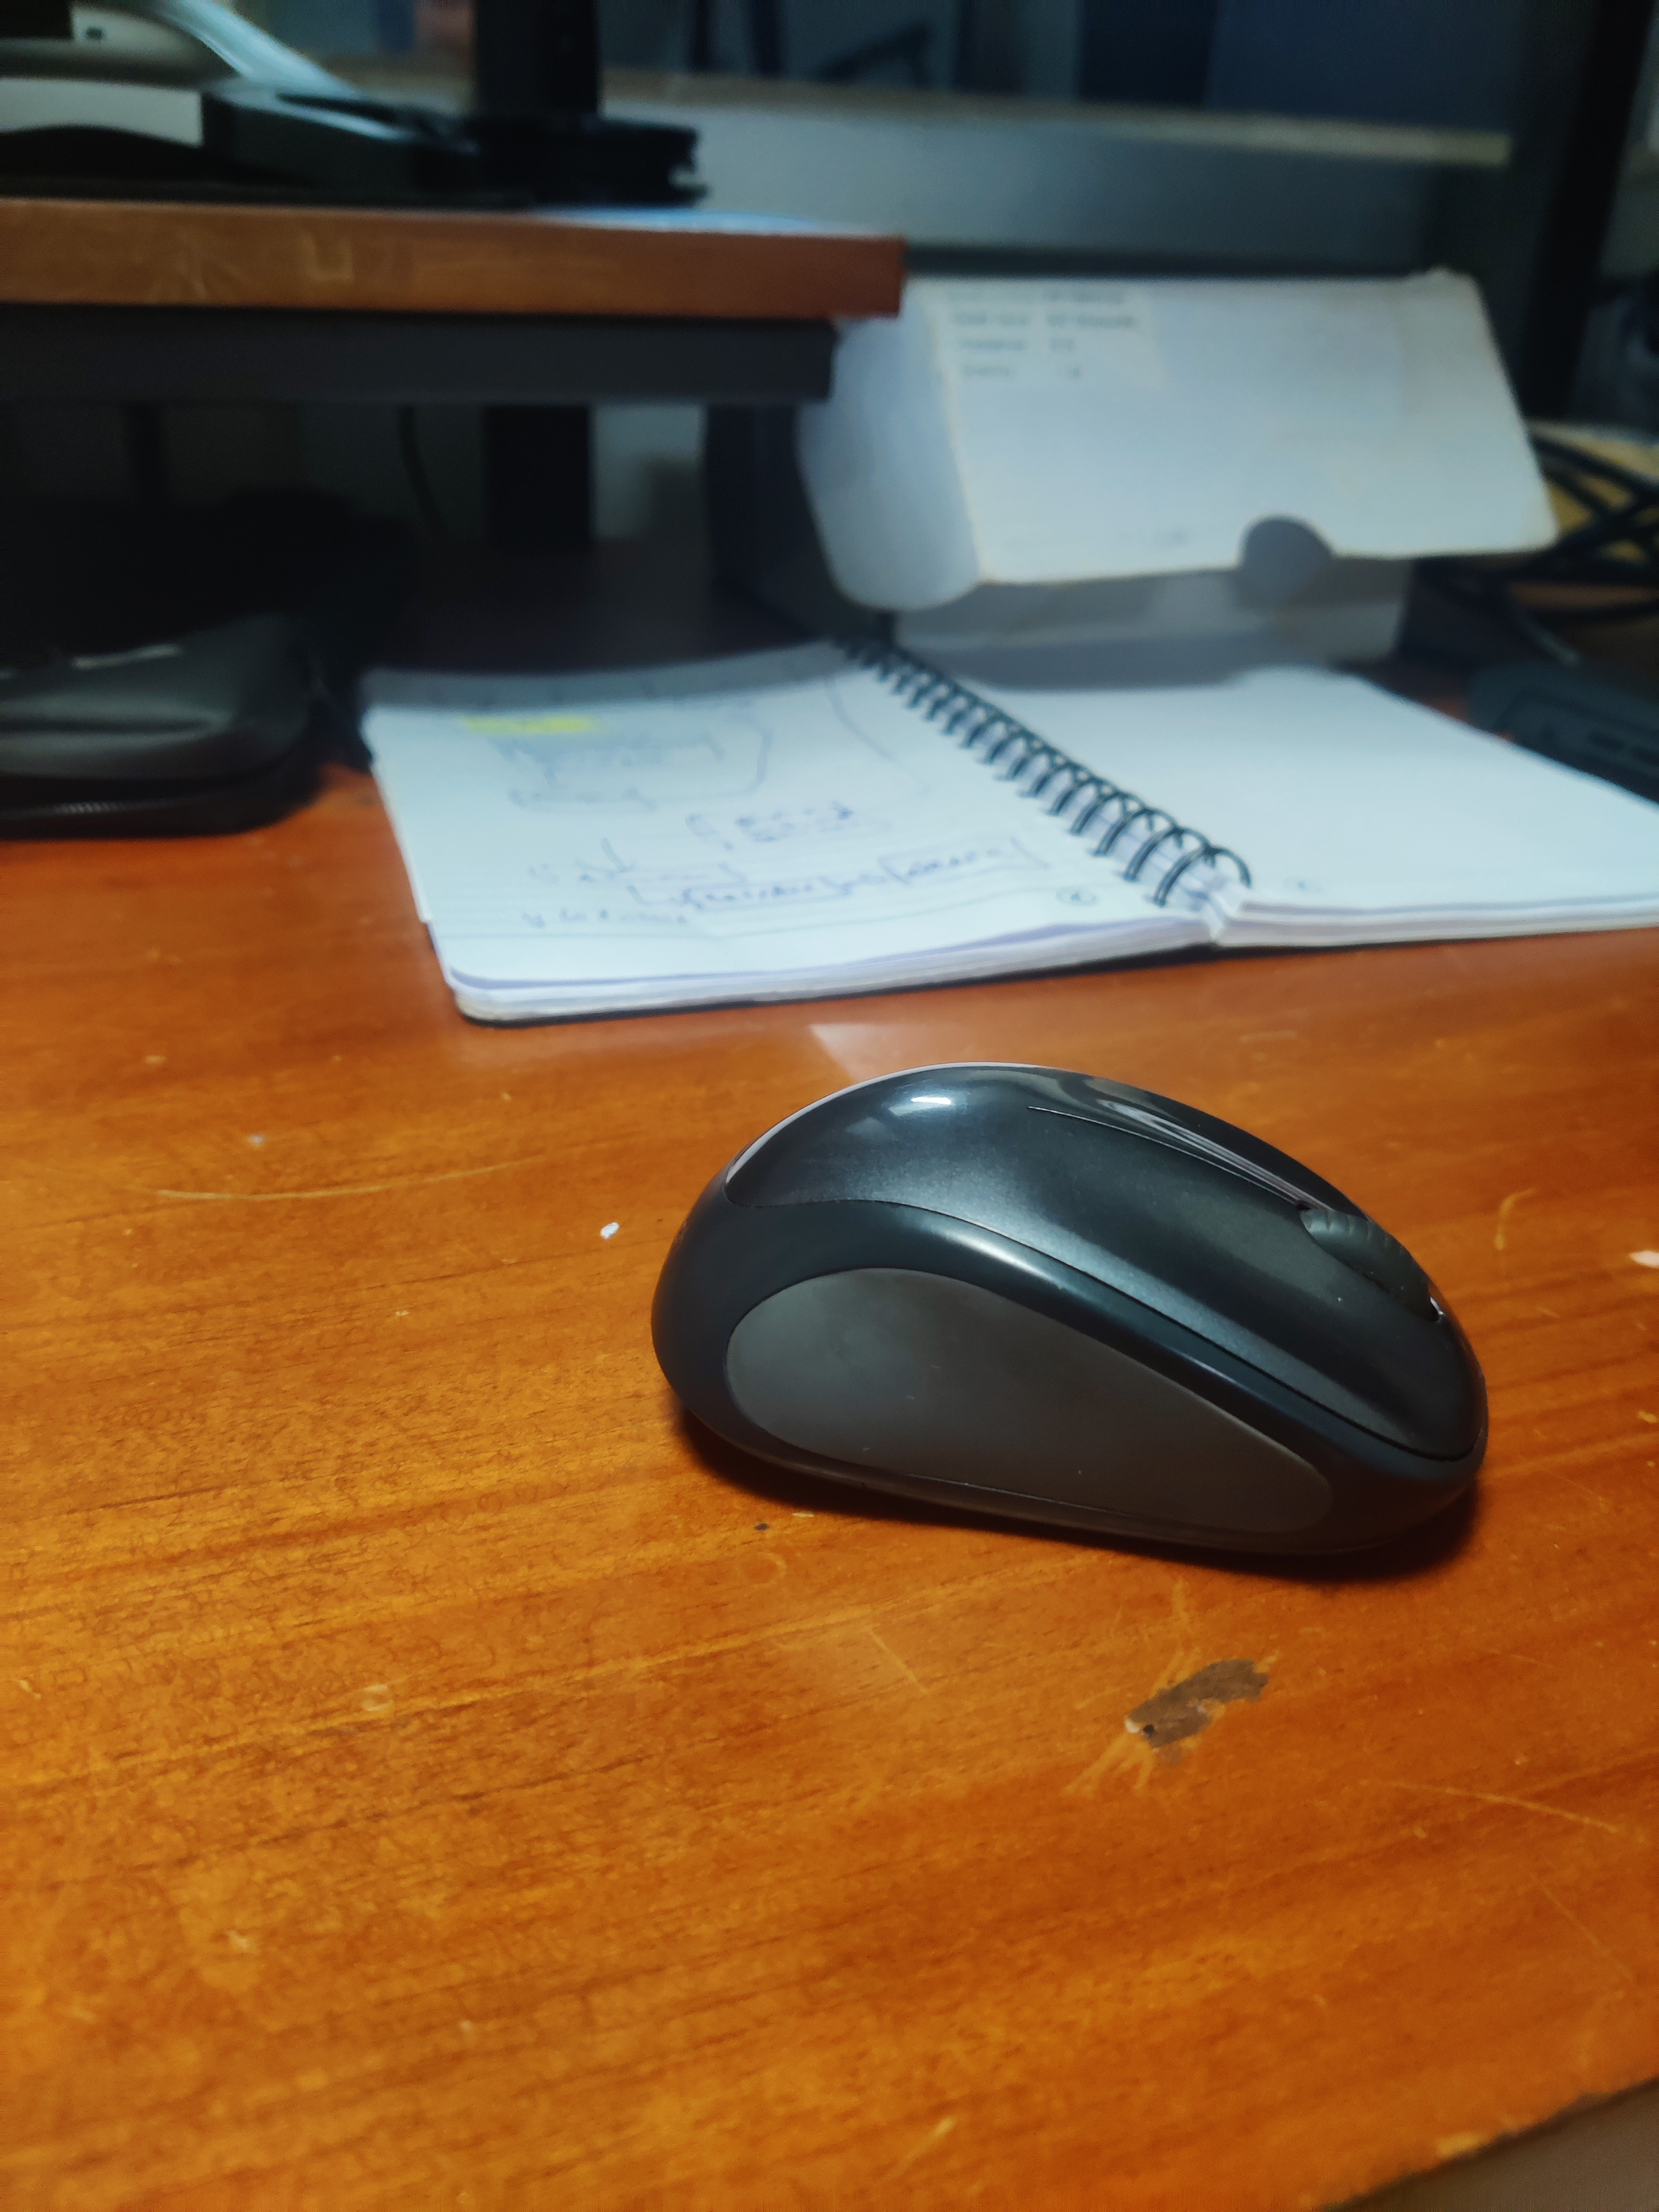logitechMouse: (638, 1042, 1547, 1601)
